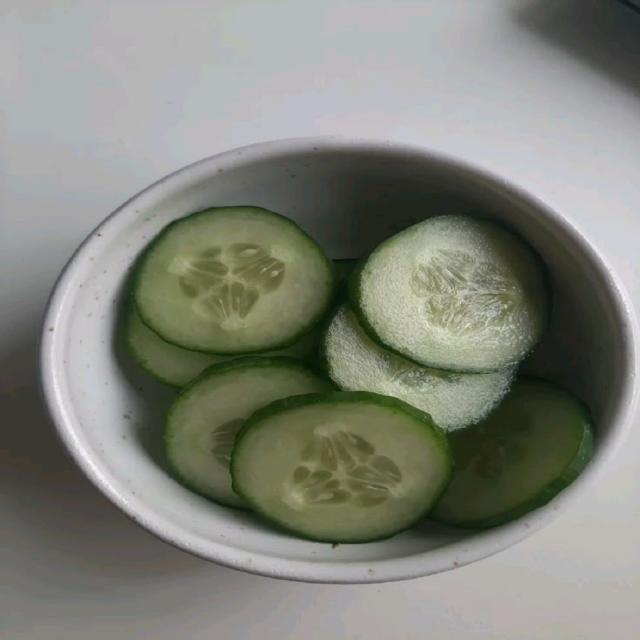cucumber sliced: (232, 393, 451, 542), (350, 216, 547, 372), (134, 207, 333, 354), (165, 357, 332, 506), (321, 306, 516, 430), (432, 379, 593, 527), (125, 305, 233, 386), (334, 259, 358, 285)
